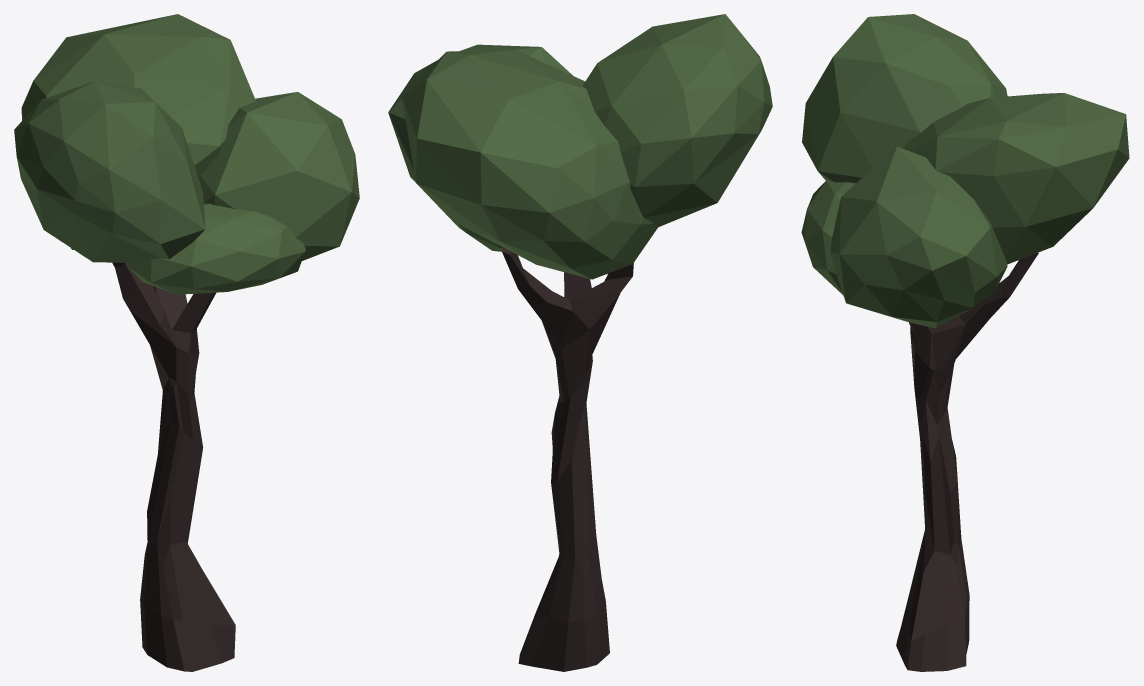
Rendered from Arvore-fina-1.glb.
The picture shows the model from 3 angles, left to right: view 1: azimuth 30°, elevation 25°; view 2: azimuth 150°, elevation 25°; view 3: azimuth 270°, elevation 25°; orthographic projection. The views are drawn at different scales.
Visible parts, largest first — view 1: Arvore-fina-1; view 2: Arvore-fina-1; view 3: Arvore-fina-1.
Boxes of the visible parts, x1,y1,x2,y2 form: Arvore-fina-1: (14,14,359,671); Arvore-fina-1: (388,14,772,671); Arvore-fina-1: (801,14,1129,671).
Size of the model in its own units: 3.45 by 6.19 by 3.16.
